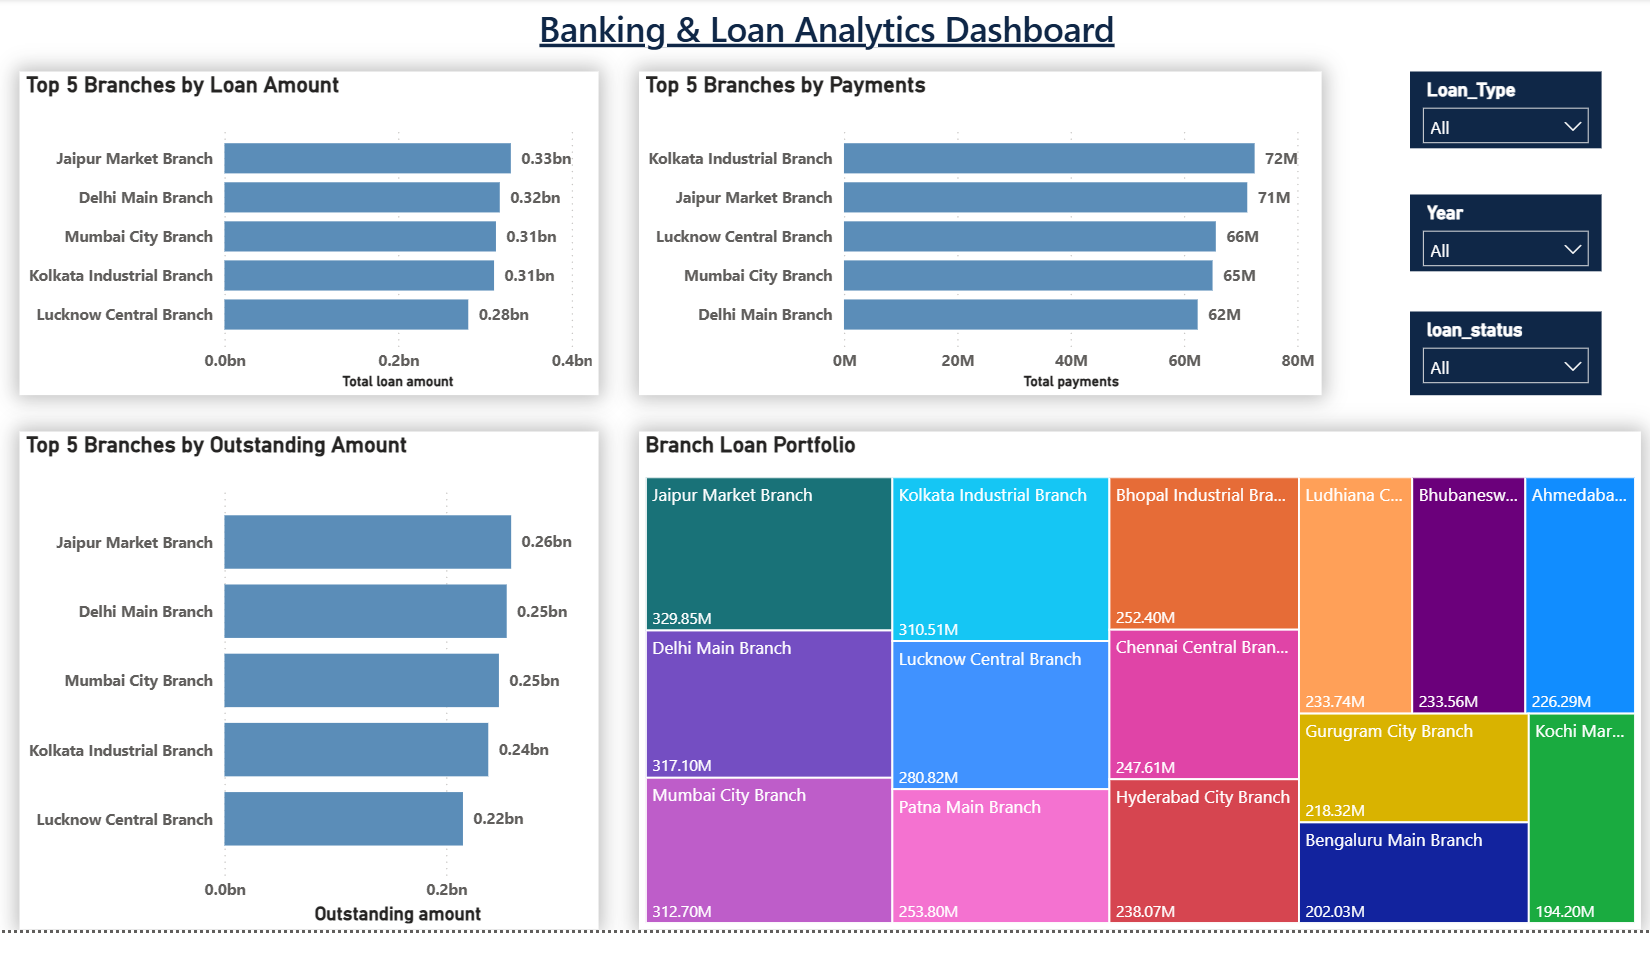

Layout of this report page (visuals, bound fields, positions):
{"tool":"powerbi","page":{"name":"Branch Performance","canvas":[1280,720],"ordinal":3},"visuals":[{"type":"textbox","box":[411.7,0,456.5,45.2],"z":0},{"type":"barChart","title":"Top 5 Branches by Loan Amount","fields":{"Category":["branches.branch_name"],"Y":["loans.Total loan amount"]},"box":[15.1,56.8,447.3,250.3],"z":2},{"type":"clusteredBarChart","title":"Top 5 Branches by Payments","fields":{"Category":["branches.branch_name"],"Y":["payments.Total payments"]},"box":[493.6,56.8,527.2,250.3],"z":3},{"type":"barChart","title":"Top 5 Branches by Outstanding Amount","fields":{"Category":["branches.branch_name"],"Y":["loans.Outstanding amount"]},"box":[15.1,334.9,447.3,384.7],"z":4},{"type":"treemap","title":"Branch Loan Portfolio","fields":{"Values":["loans.Total loan amount"],"Details":["branches.branch_name"]},"box":[493.6,334.9,774,384.7],"z":5},{"type":"slicer","fields":{"Values":["loans.loan_type"]},"box":[1089.2,56.8,148.3,59.1],"z":6},{"type":"slicer","fields":{"Values":["DateTable.Year"]},"box":[1089.2,151.8,148.3,59.1],"z":7},{"type":"slicer","fields":{"Values":["loans.loan_status"]},"box":[1089.2,242.2,148.3,64.9],"z":8}]}

Visuals, with their boxes on the page's 1280x720 design canvas (x1, y1, x2, y2). These are canvas units, not pixel positions in the 1650x958 screenshot, which may show the page scaled, cropped or inside an application window:
textbox: (412,0,868,45)
"Top 5 Branches by Loan Amount" barChart: (15,57,462,307)
"Top 5 Branches by Payments" clusteredBarChart: (494,57,1021,307)
"Top 5 Branches by Outstanding Amount" barChart: (15,335,462,720)
"Branch Loan Portfolio" treemap: (494,335,1268,720)
slicer - loans.loan_type: (1089,57,1238,116)
slicer - DateTable.Year: (1089,152,1238,211)
slicer - loans.loan_status: (1089,242,1238,307)
